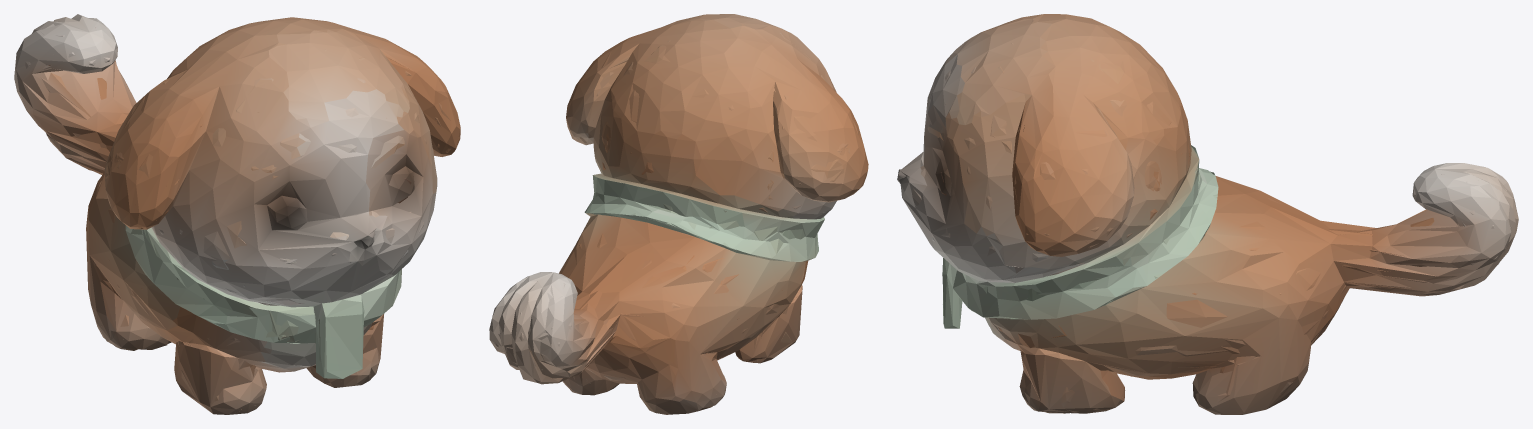
File: dog.glb
3 views of the same model, side by side, from view 1: azimuth 30°, elevation 25°; view 2: azimuth 150°, elevation 25°; view 3: azimuth 270°, elevation 25° (orthographic). The views are drawn at different scales.
Visible parts, largest first — view 1: High poly_puppy_0; view 2: High poly_puppy_0; view 3: High poly_puppy_0.
Part boxes in pixels (left/top/right/bottom): High poly_puppy_0: left=14, top=14, right=460, bottom=414; High poly_puppy_0: left=489, top=14, right=868, bottom=414; High poly_puppy_0: left=897, top=14, right=1518, bottom=414.
Bounding box in the file's own units: 3.01 × 3.09 × 5.
